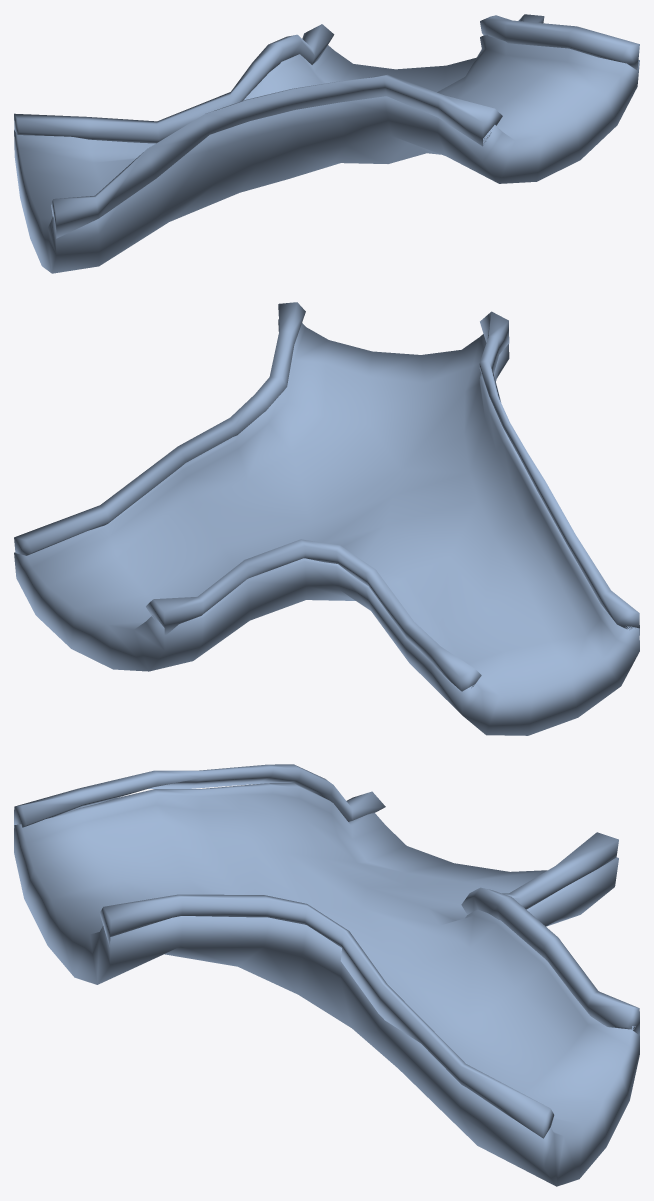
File: junRoadTeeSlope10.fbx
3 renders of one model, top to bottom at view 1: azimuth 30°, elevation 25°; view 2: azimuth 150°, elevation 25°; view 3: azimuth 270°, elevation 25°, orthographic. The views are drawn at different scales.
Parts seen in each view (by area): view 1: teeSlope10_LOD0, teeSlope10_edge_LOD0; view 2: teeSlope10_LOD0, teeSlope10_edge_LOD0; view 3: teeSlope10_LOD0, teeSlope10_edge_LOD0.
Part boxes in pixels (bbox=[...]): teeSlope10_LOD0: bbox=[14, 35, 639, 273]; teeSlope10_edge_LOD0: bbox=[14, 14, 639, 238]; teeSlope10_LOD0: bbox=[14, 319, 639, 735]; teeSlope10_edge_LOD0: bbox=[14, 302, 639, 691]; teeSlope10_LOD0: bbox=[14, 783, 639, 1186]; teeSlope10_edge_LOD0: bbox=[14, 764, 639, 1138].
Bounding box in the file's own units: 2614 × 1000 × 2136.
